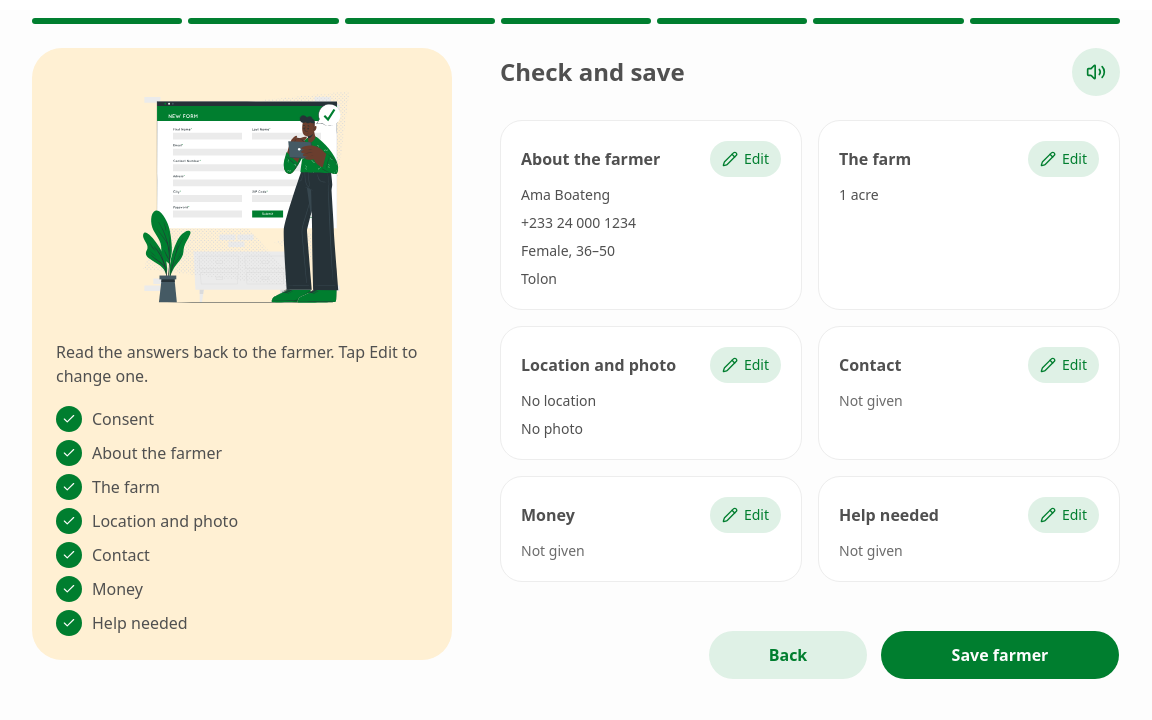
Test: registering a farmer › sends a broken old draft back to the step to fix
This screenshot has width=1152, height=720.
(page scrolled)
Click the button "Save farmer" at x=1000, y=655, box [880,630,1120,680]
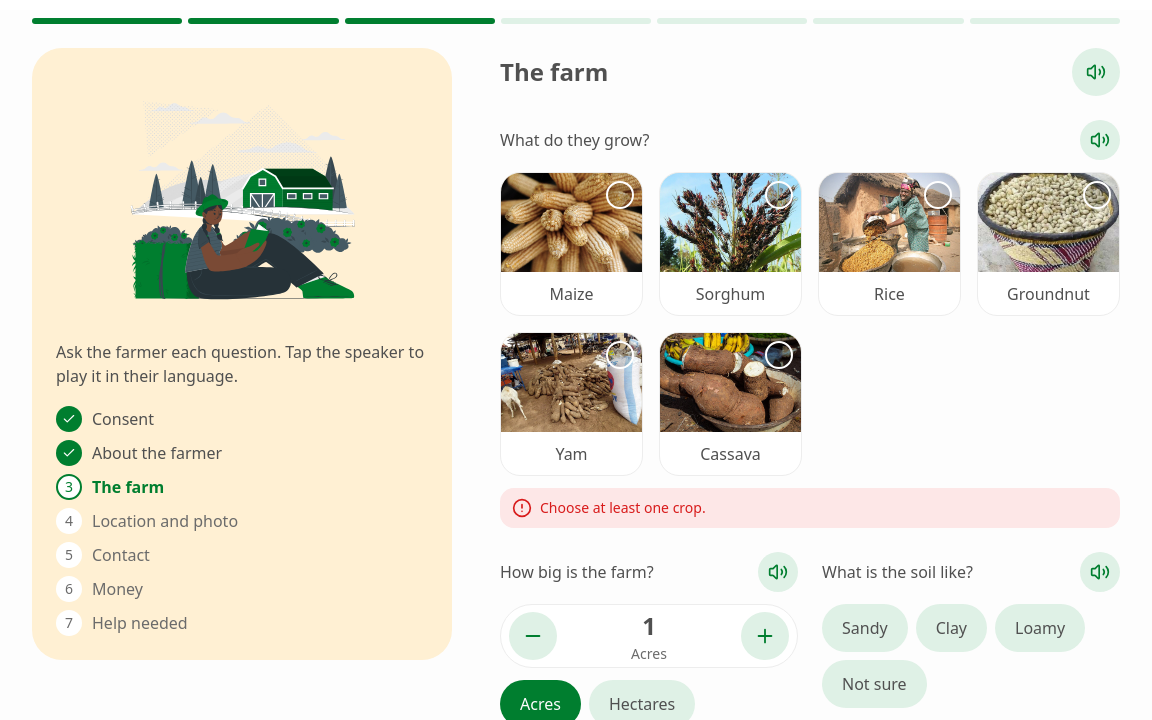
Expected: the text "Choose at least one crop." is shown, [500,488,1120,528]
